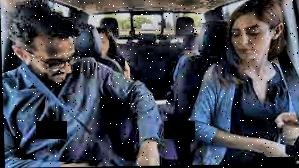seatbelt: (11, 60, 122, 164), (277, 50, 299, 117)
